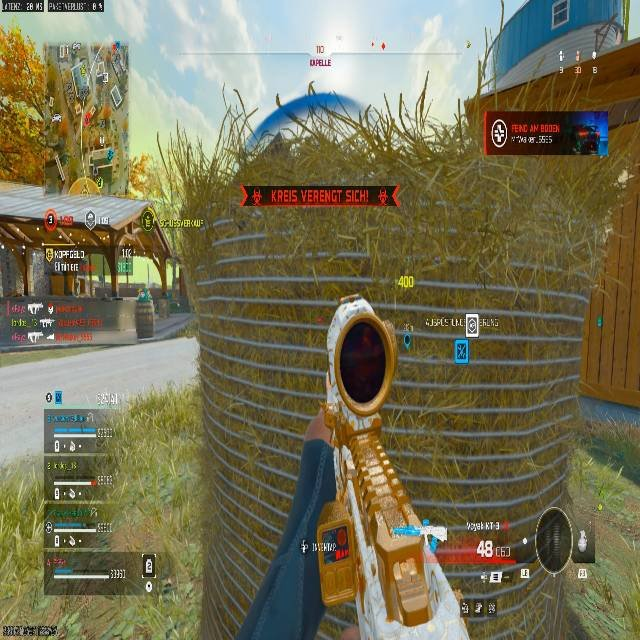head: (325, 297, 398, 400)
player: (333, 31, 345, 51)
